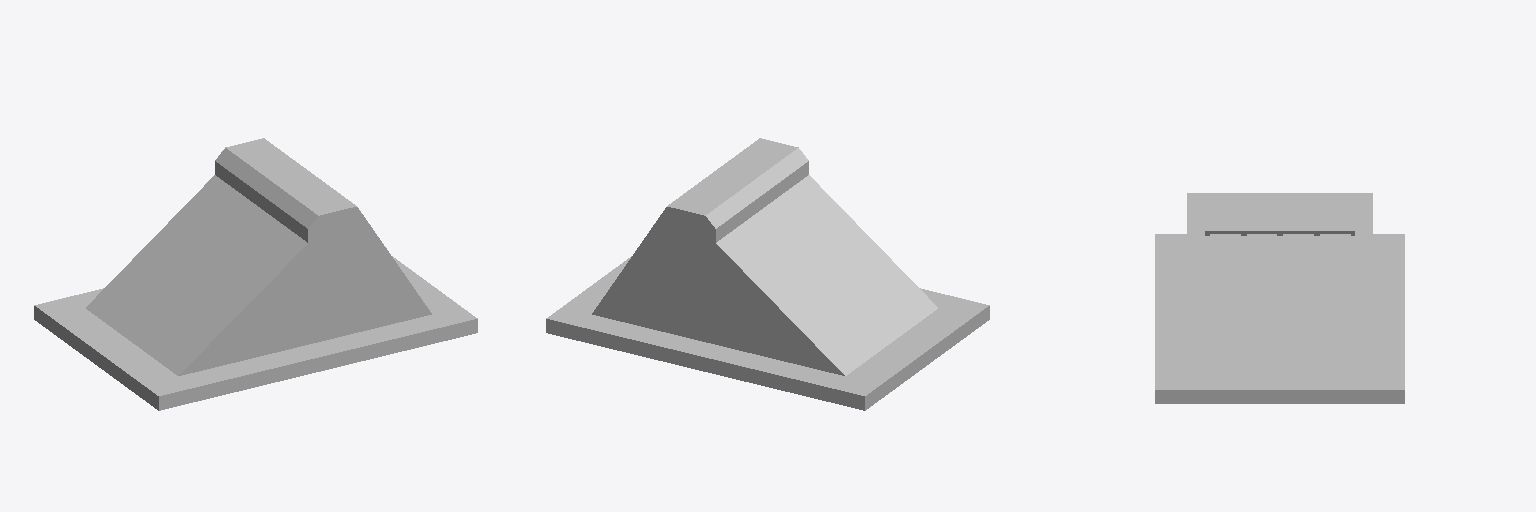
Rendered from floorlight.obj.
The picture shows the model from 3 angles: view 1: azimuth 30°, elevation 25°; view 2: azimuth 150°, elevation 25°; view 3: azimuth 270°, elevation 25°; orthographic projection.
Visible parts, largest first — view 1: Plane.001; view 2: Plane.001; view 3: Plane.001, Plane.000.
Boxes of the visible parts, x1,y1,x2,y2 form: Plane.001: [34, 138, 477, 410]; Plane.001: [546, 138, 989, 410]; Plane.001: [1155, 193, 1404, 403]; Plane.000: [1210, 234, 1350, 371].
Bounding box in the file's own units: 0.7418 × 0.3131 × 0.5018.